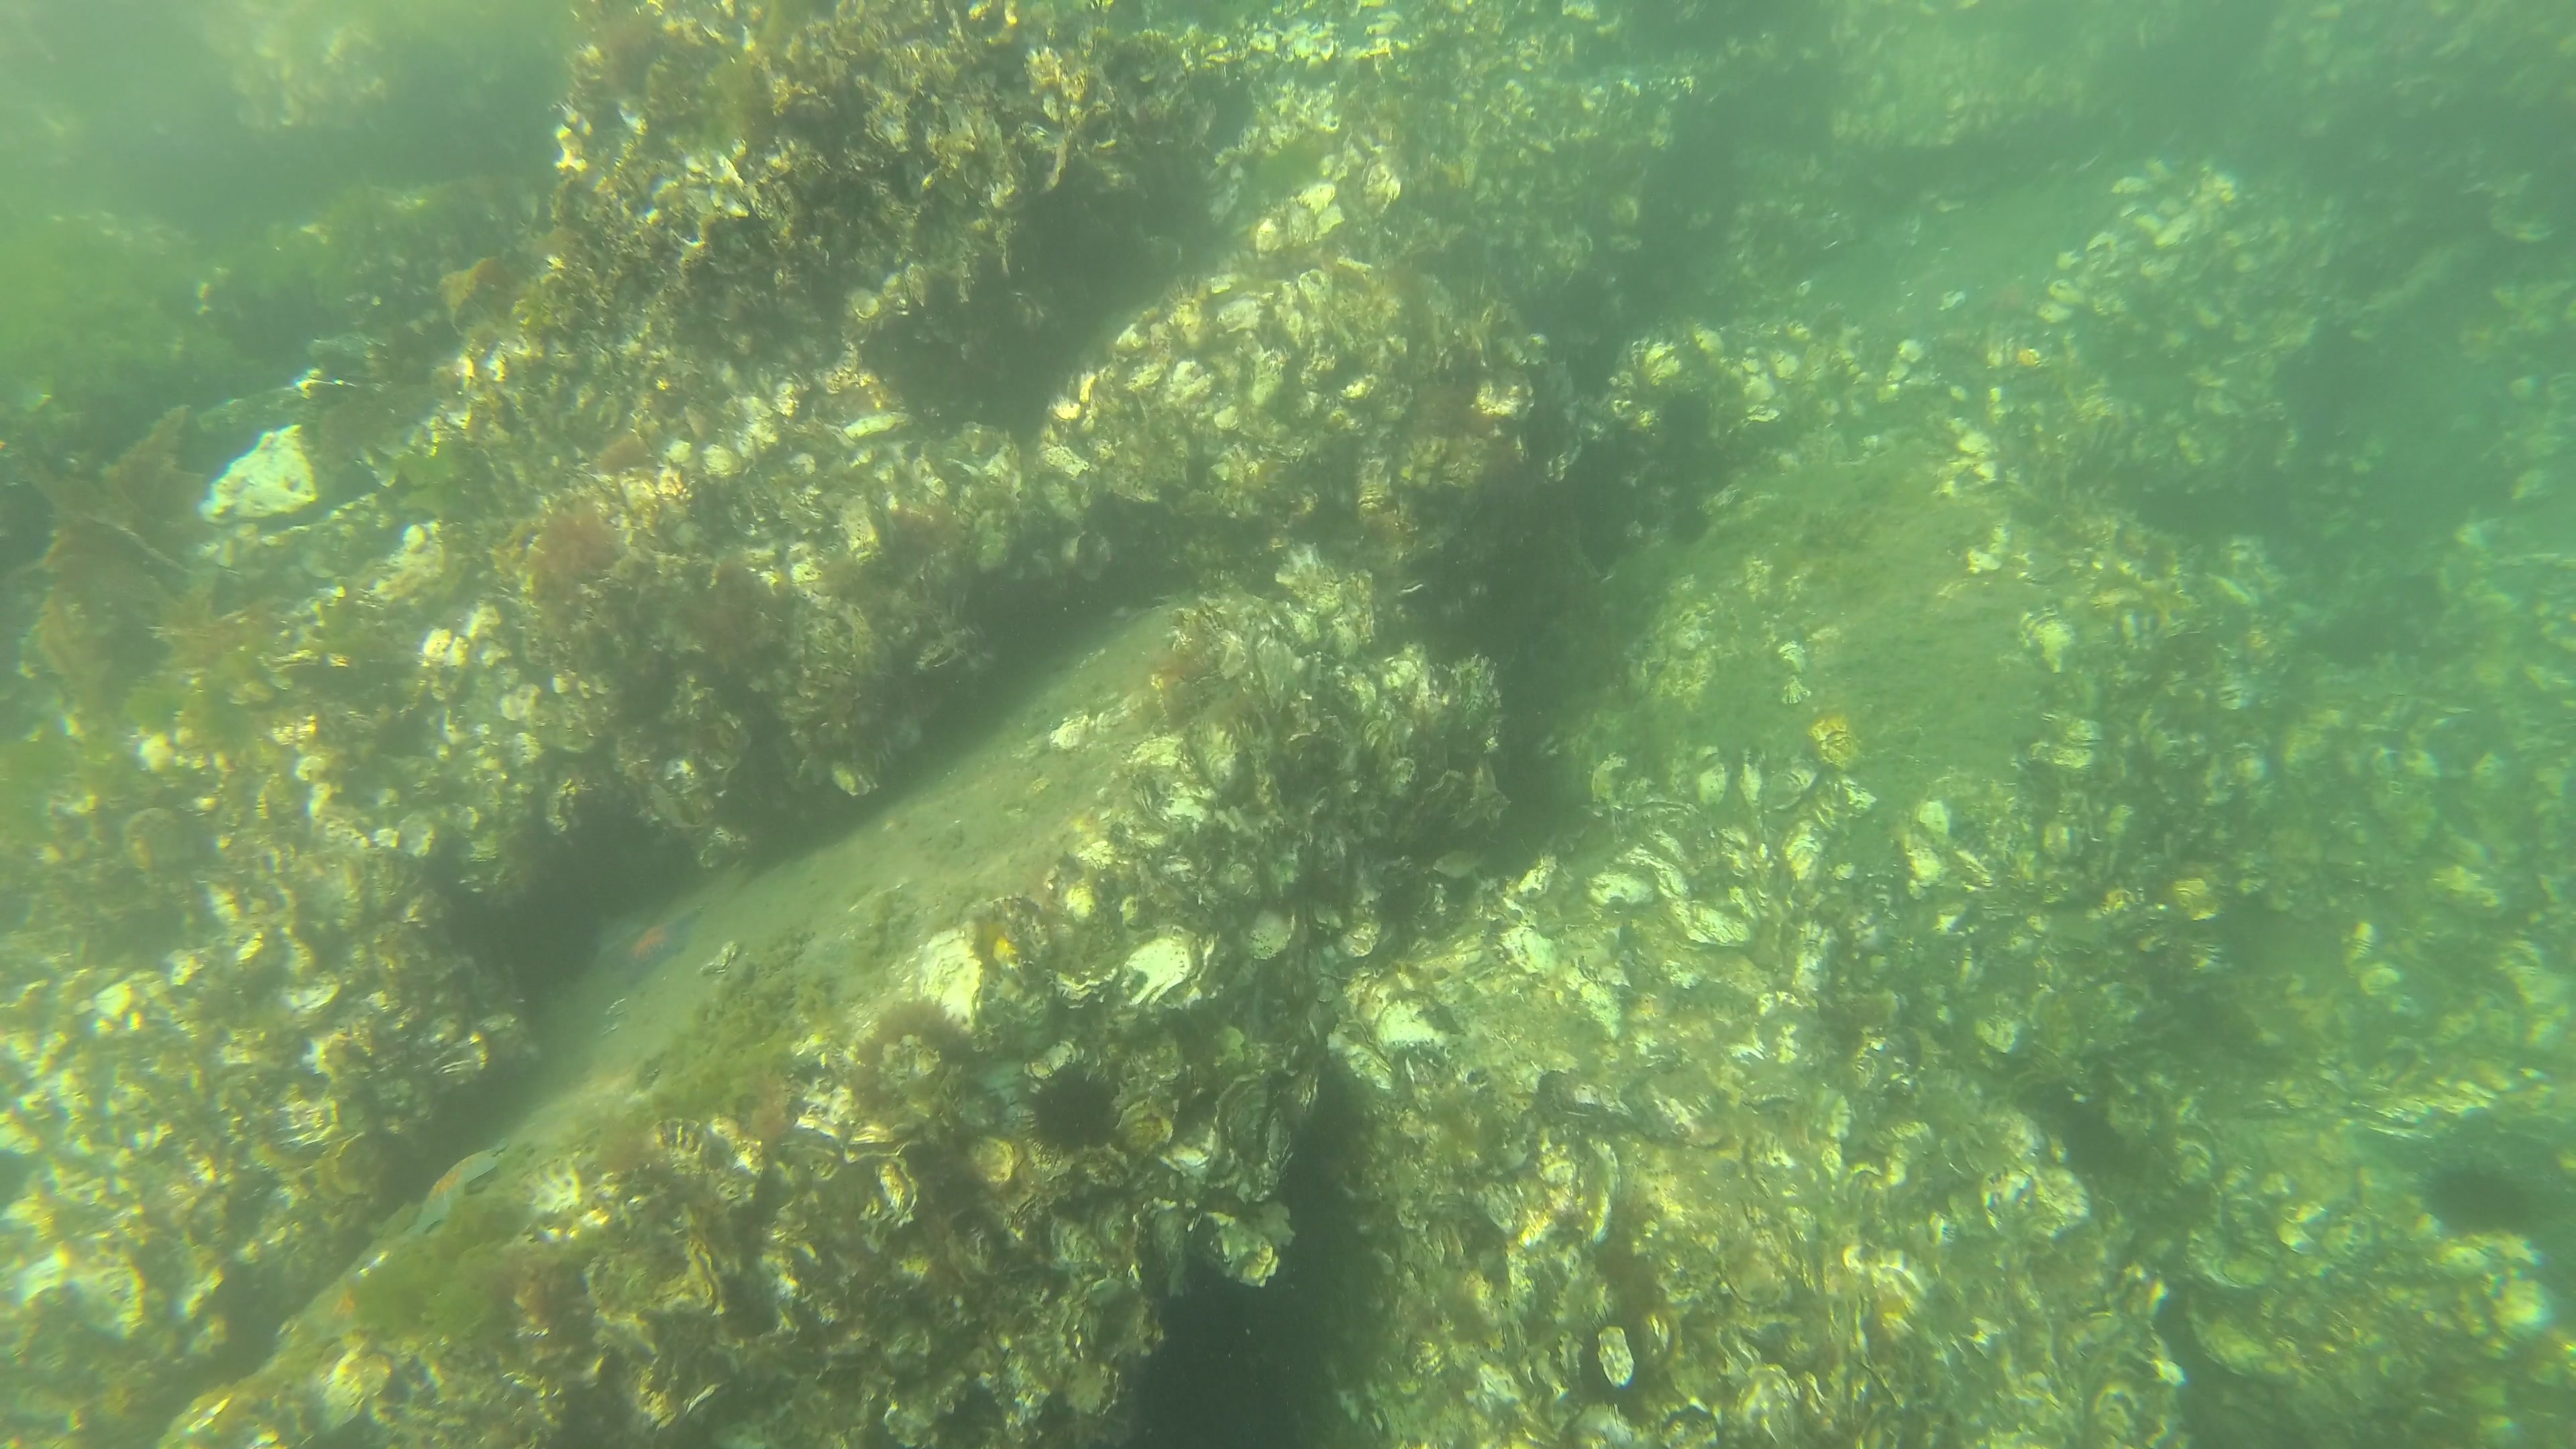echinus: (1024, 1058, 1122, 1161), (2429, 1157, 2511, 1228), (1660, 386, 1721, 437), (1667, 497, 1713, 550)
starfish: (409, 1138, 511, 1246), (292, 1274, 395, 1346), (609, 908, 692, 985)
